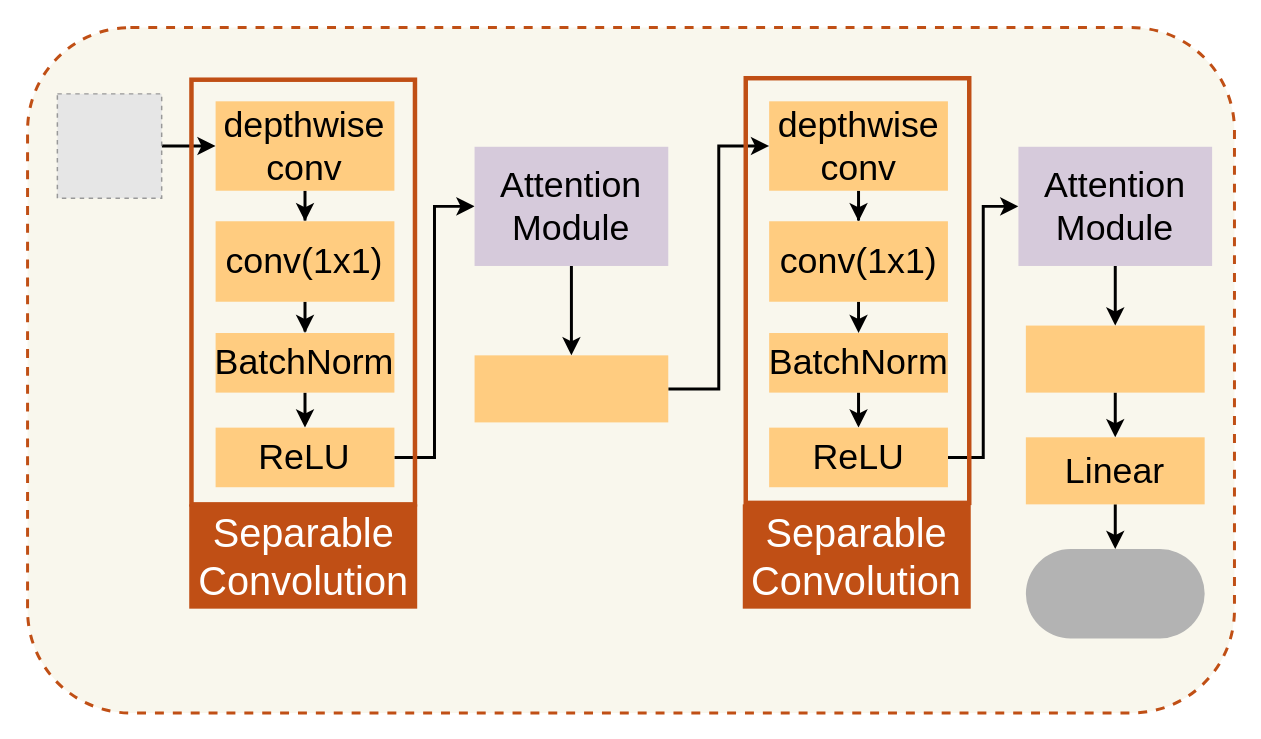
The diagram is 1261 pixels wide and 739 high, and some of its shapes have lost their labels. Grey dashed boxes stand in for pictures. Here are the shapes that lost their labels. From the top down, the centre of each, then its label:
At [1114,358]: "GAP".
At [571,388]: "MaxPool".
At [1114,593]: "Output".
